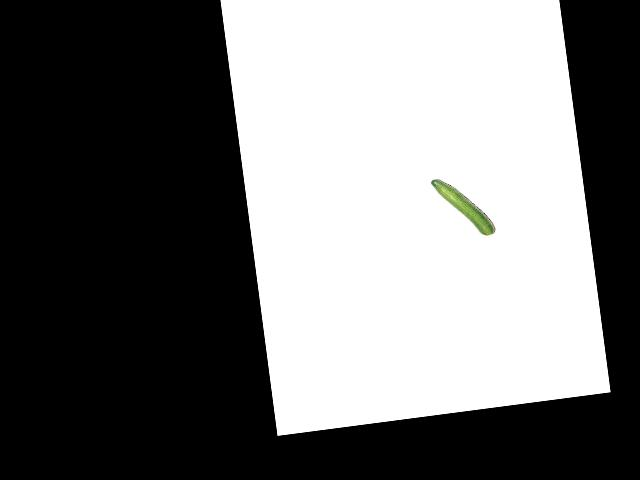cucumber: (430, 172, 496, 242)
